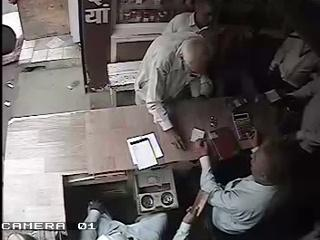Normal: (172, 132, 292, 240), (134, 0, 224, 104)
